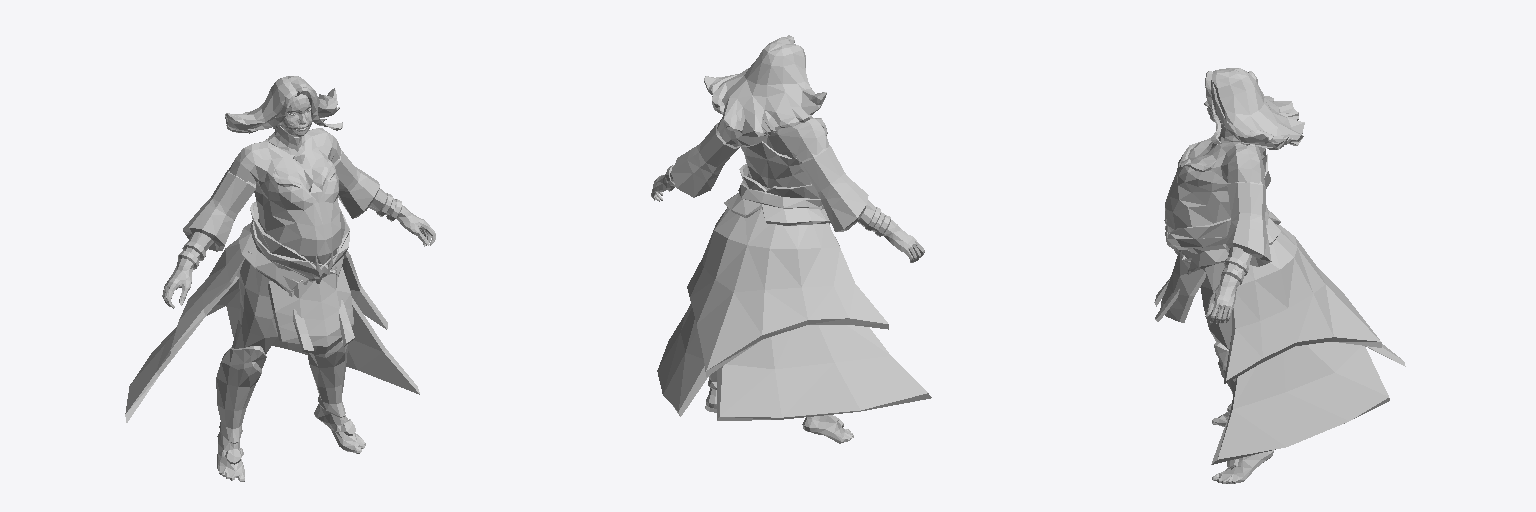
Rendered from lina_statue_000007.obj.
The picture shows the model from 3 angles: view 1: azimuth 30°, elevation 25°; view 2: azimuth 150°, elevation 25°; view 3: azimuth 270°, elevation 25°; orthographic projection.
Visible parts, largest first — view 1: lina_body.001_lina_body; view 2: lina_body.001_lina_body; view 3: lina_body.001_lina_body.
Boxes of the visible parts, <box> form: lina_body.001_lina_body: <box>125,76,435,481</box>; lina_body.001_lina_body: <box>651,35,931,443</box>; lina_body.001_lina_body: <box>1154,68,1405,483</box>.
Size of the model in its own units: 143 by 179 by 106.